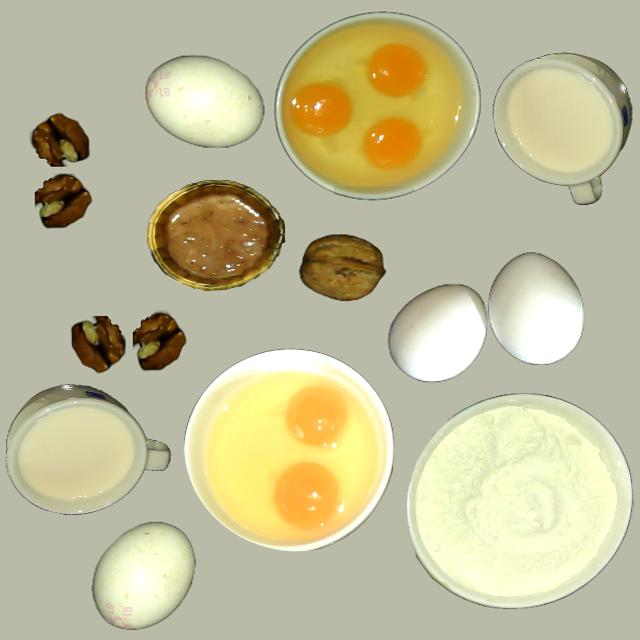Egg: (273, 462, 341, 529), (285, 385, 349, 446), (368, 44, 428, 98), (290, 84, 352, 136), (364, 118, 422, 168)
Flour: (405, 393, 631, 609)
Milk: (15, 404, 140, 508), (505, 68, 613, 176)
Walnut: (292, 231, 389, 319), (21, 170, 98, 247), (300, 234, 384, 300), (33, 175, 91, 228)
